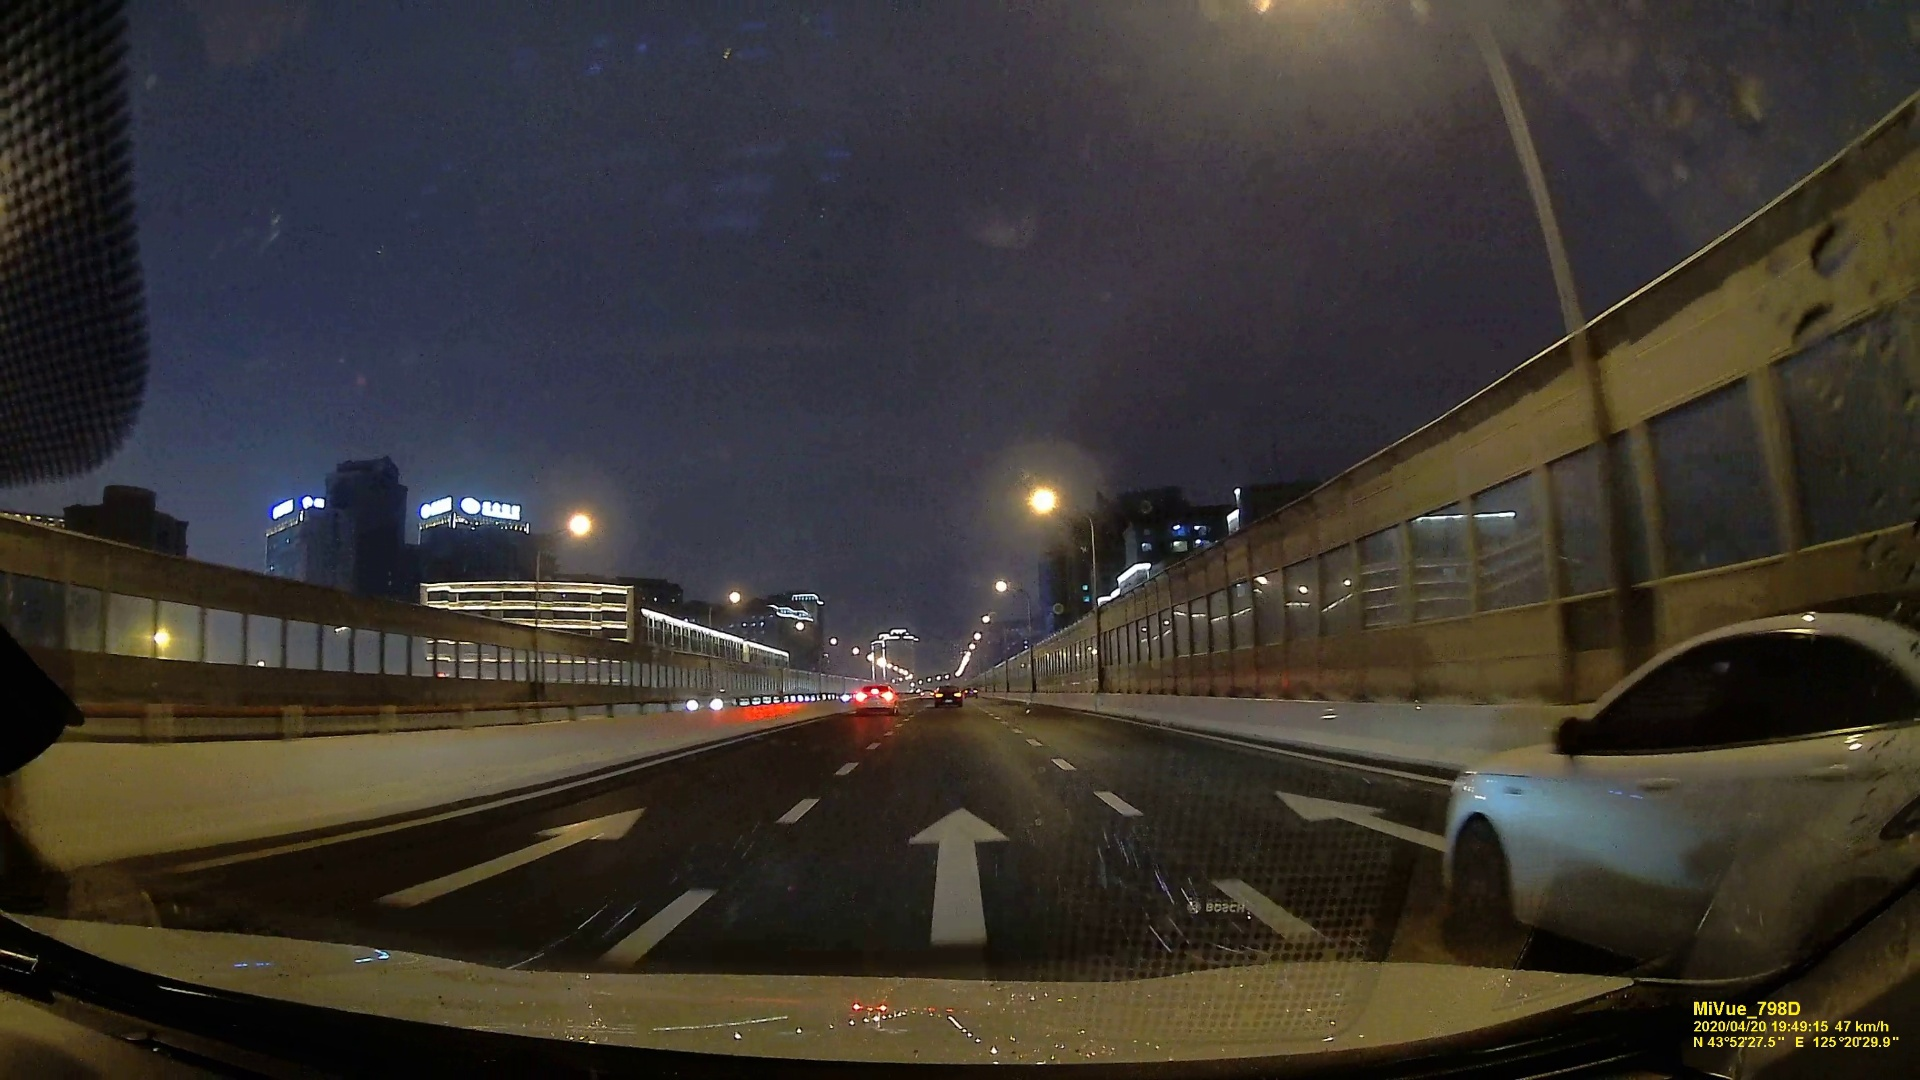vehicle: (1437, 616, 1917, 984), (853, 682, 897, 712), (684, 687, 731, 709), (932, 684, 963, 707)
